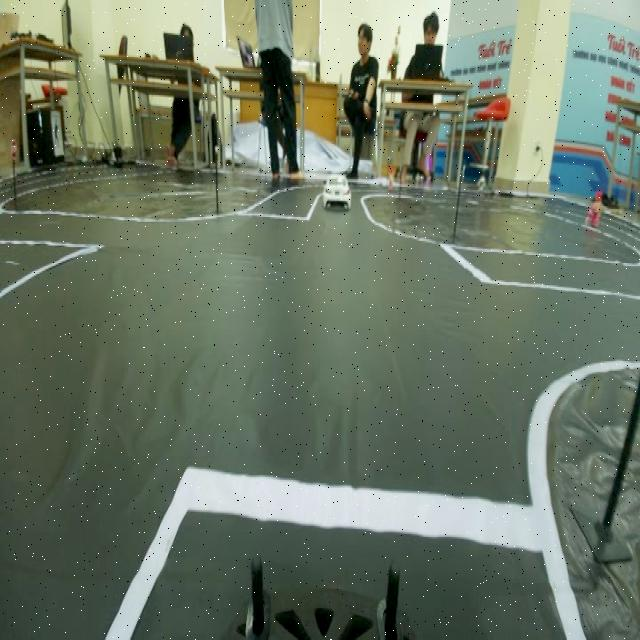car: (319, 161, 354, 211)
